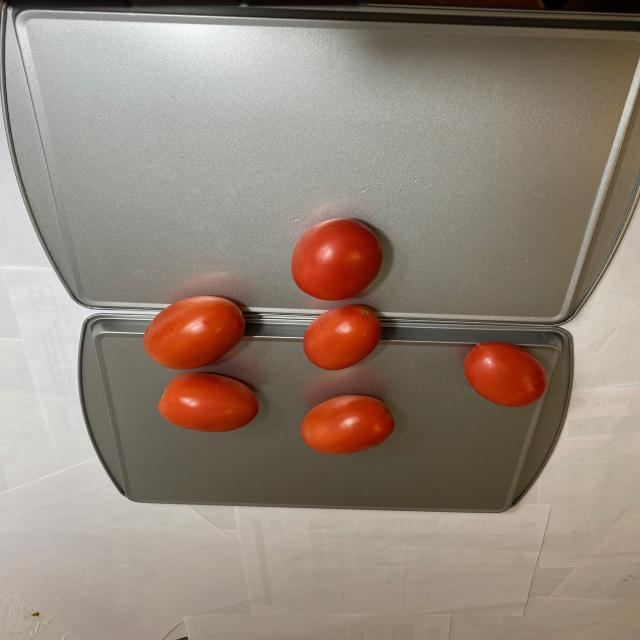tomato: (145, 216, 550, 456)
